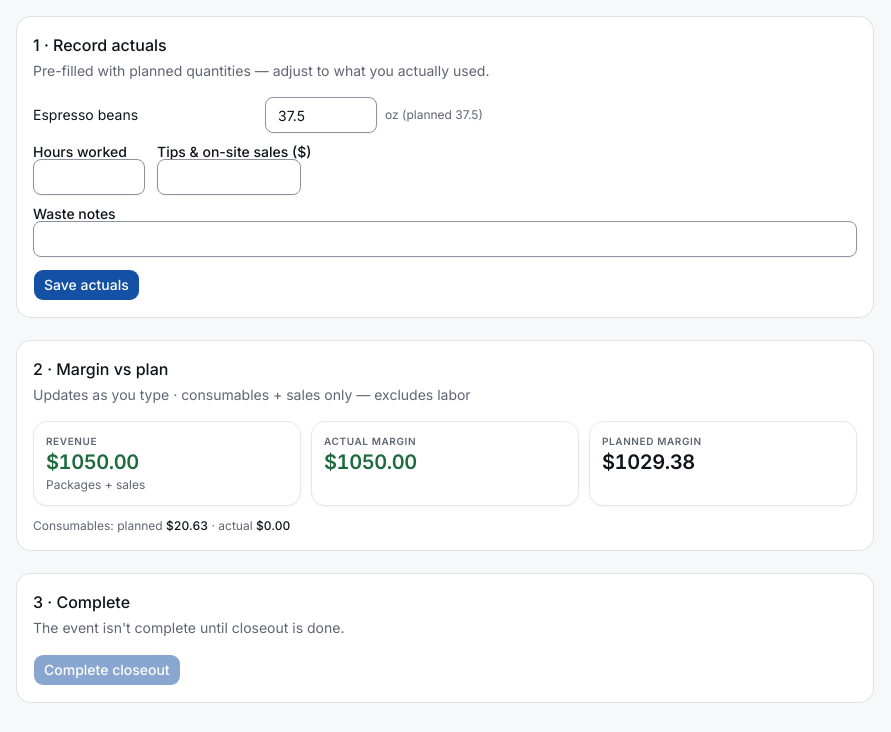
Test: CloseoutClient delta chips › reveals delta chips on the first edit, interpreted against the live recompute
Step 1. Replace the text in the number field named "Actual Espresso beans used" with "30" → [321, 115], box x1=265 y1=97 x2=377 y2=133
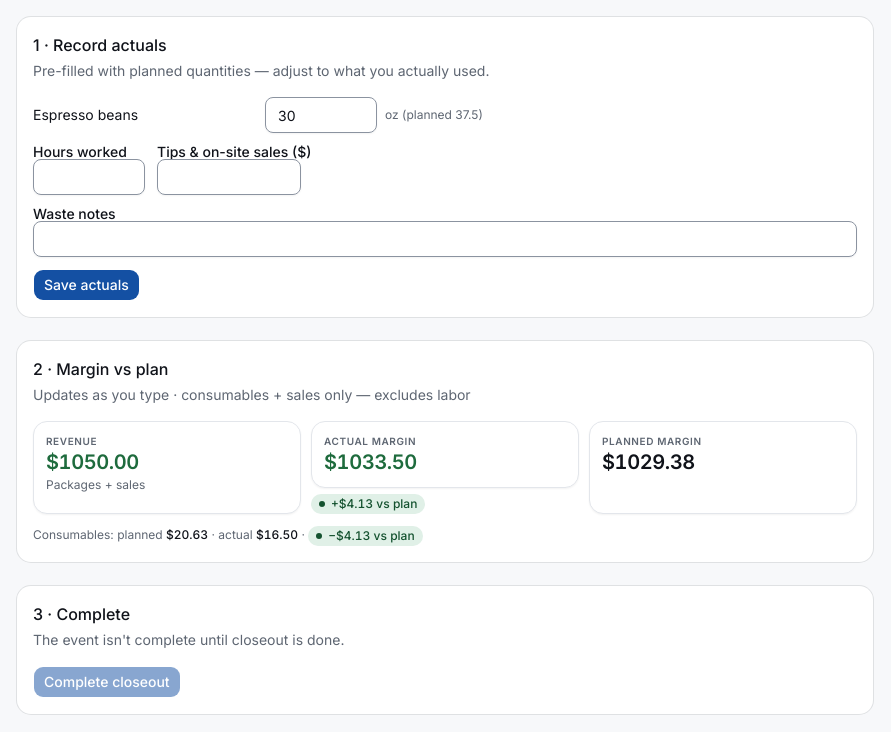
Expected: the text "+$4.13 vs plan" is shown, x1=311 y1=494 x2=425 y2=514
Expected: the text "−$4.13 vs plan" is shown, x1=308 y1=526 x2=423 y2=546
